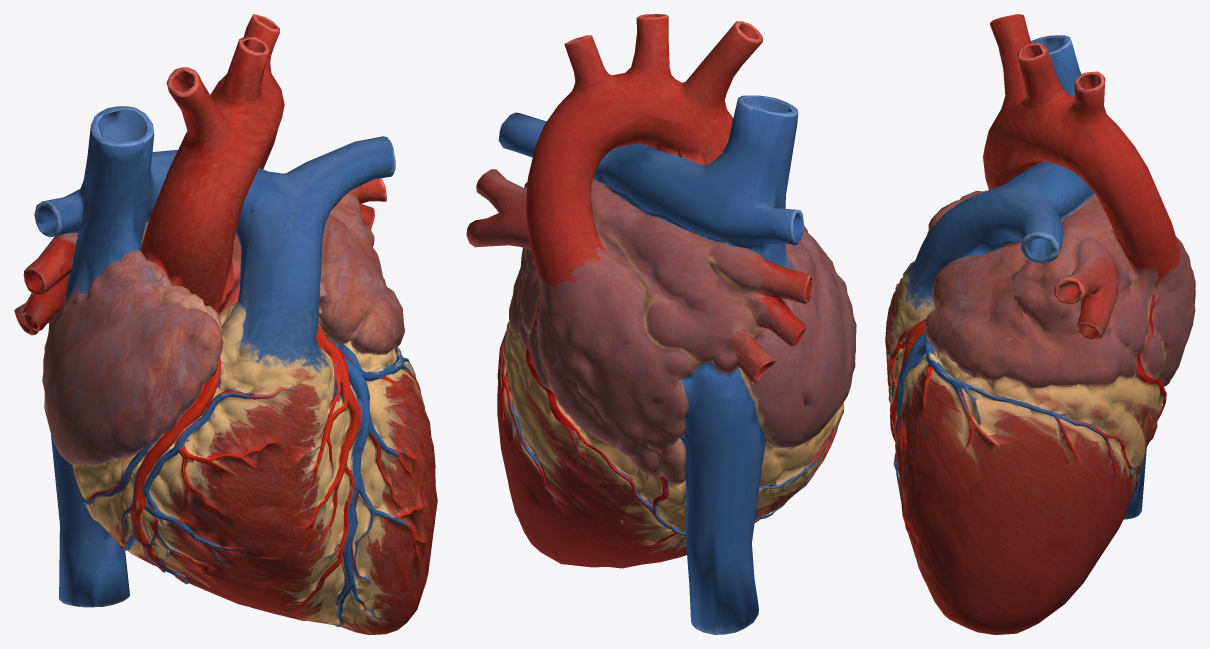
The model's file is lung-sim-pro-heart.glb.
3 views of the same model, side by side, from view 1: azimuth 30°, elevation 25°; view 2: azimuth 150°, elevation 25°; view 3: azimuth 270°, elevation 25° (orthographic). The views are drawn at different scales.
Visible parts, largest first — view 1: Heart; view 2: Heart; view 3: Heart.
Boxes of the visible parts, left/top/right/bottom form: Heart: left=14, top=14, right=437, bottom=634; Heart: left=466, top=14, right=856, bottom=634; Heart: left=885, top=14, right=1195, bottom=634.
Size of the model in its own units: 1.16 by 1.9 by 0.9908.
Materials: 1 (1 with a texture image).
